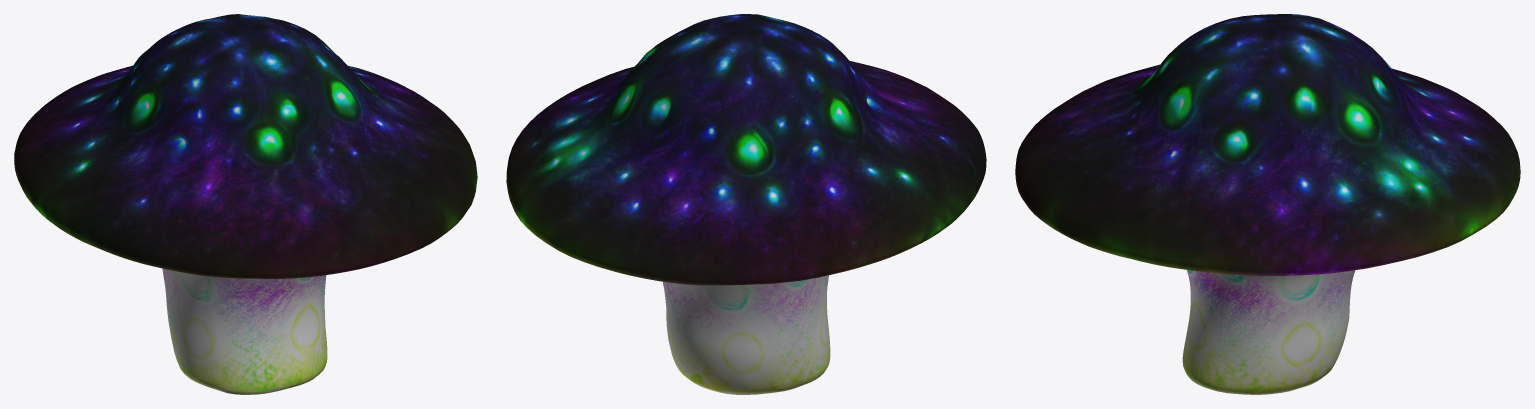
The model's file is faf1e06aeab3_glowing_bioluminesc.fbx.
3 renders of one model, left to right at view 1: azimuth 30°, elevation 25°; view 2: azimuth 150°, elevation 25°; view 3: azimuth 270°, elevation 25°, orthographic. The views are drawn at different scales.
Parts seen in each view (by area): view 1: mesh; view 2: mesh; view 3: mesh.
Part boxes in pixels (<box>): mesh: <box>14,14,477,394</box>; mesh: <box>506,14,986,394</box>; mesh: <box>1015,14,1520,394</box>.
Size of the model in its own units: 92.43 by 74.71 by 99.95.
